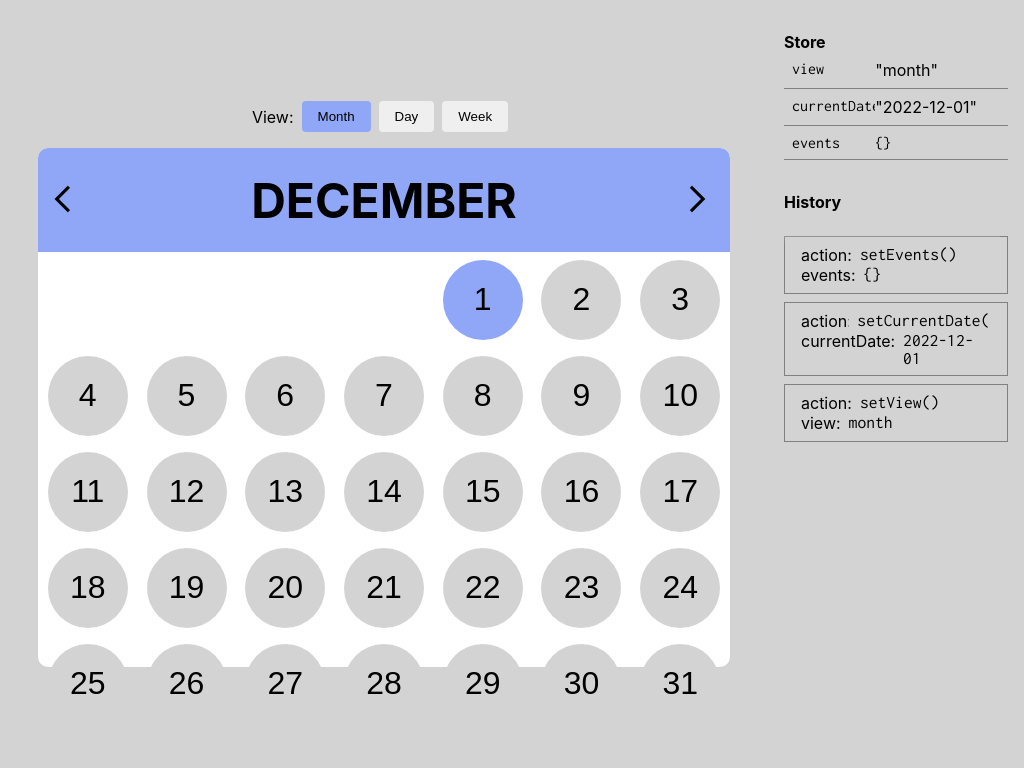
Scenario: mobx/CalendarWrapper › clicking 'day' option changes to day view
Click the button "Day" at point(406, 117), box [379,101,434,132]
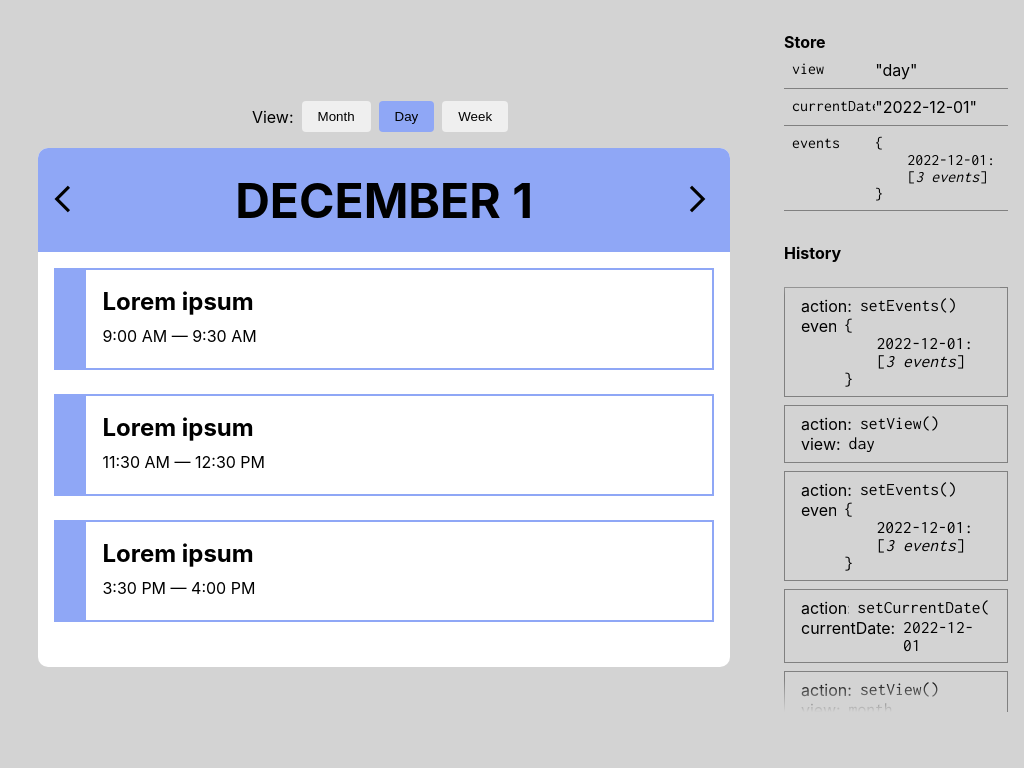
Check: the heading "DECEMBER 1" is shown, box [235,171,533,230]
